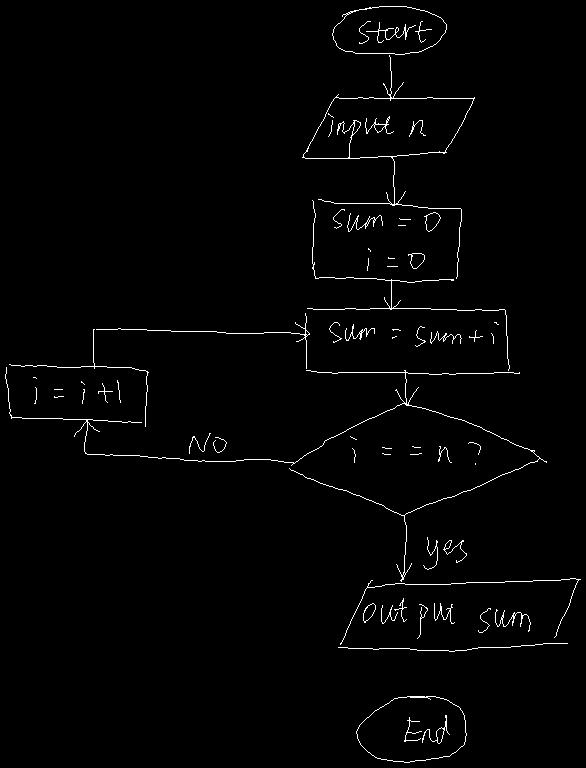arrow: (93, 322, 309, 368), (74, 419, 293, 462), (396, 516, 411, 581), (386, 156, 405, 205), (383, 55, 403, 100), (395, 370, 418, 405), (384, 279, 400, 309)
data: (338, 578, 580, 651), (302, 94, 474, 158)
decision: (289, 403, 546, 515)
process: (305, 308, 519, 374), (312, 199, 461, 282), (5, 364, 148, 426)
terminator: (356, 696, 466, 762), (332, 6, 446, 54)
text: (363, 598, 530, 638), (333, 209, 440, 270), (328, 113, 425, 158), (329, 322, 498, 346), (350, 436, 480, 464), (33, 377, 120, 403), (359, 21, 431, 43), (423, 537, 466, 569), (404, 715, 449, 743), (189, 433, 226, 453)
